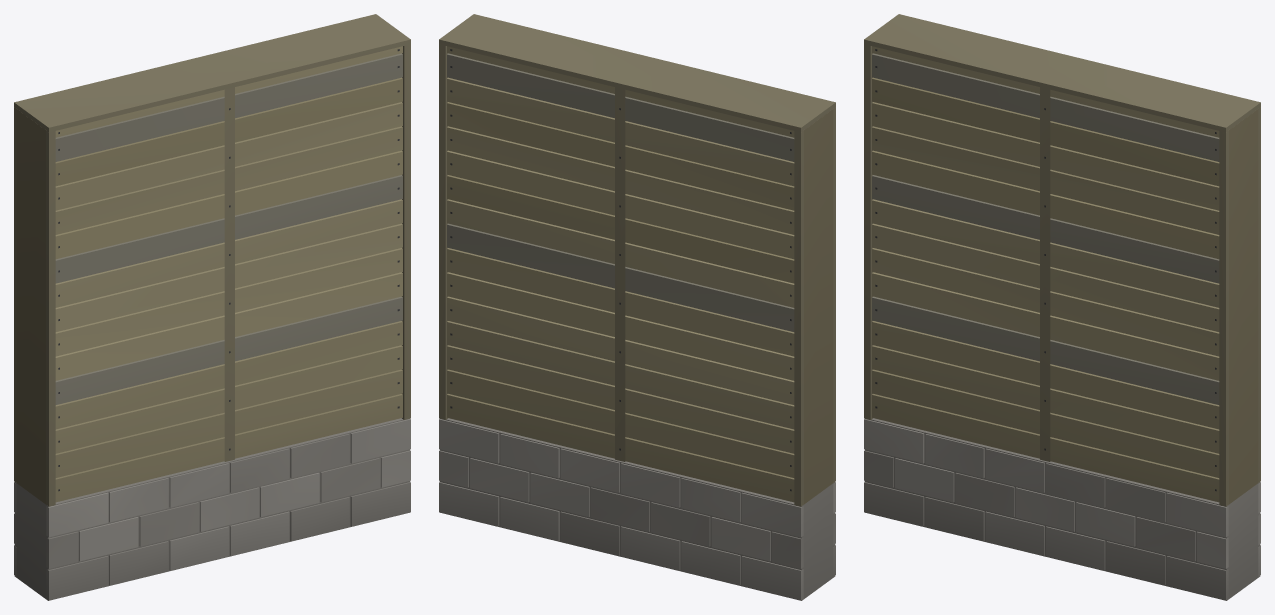
File: range_wall_c.glb
3 views of the same model, side by side, from view 1: azimuth 30°, elevation 25°; view 2: azimuth 150°, elevation 25°; view 3: azimuth 330°, elevation 25° (orthographic).
Visible parts, largest first — view 1: RangeWall_c; view 2: RangeWall_c; view 3: RangeWall_c.
Part boxes in pixels (<box>): RangeWall_c: <box>14,14,410,600</box>; RangeWall_c: <box>439,14,835,600</box>; RangeWall_c: <box>864,14,1260,600</box>.
Bounding box in the file's own units: 2.4 × 3 × 0.4.
